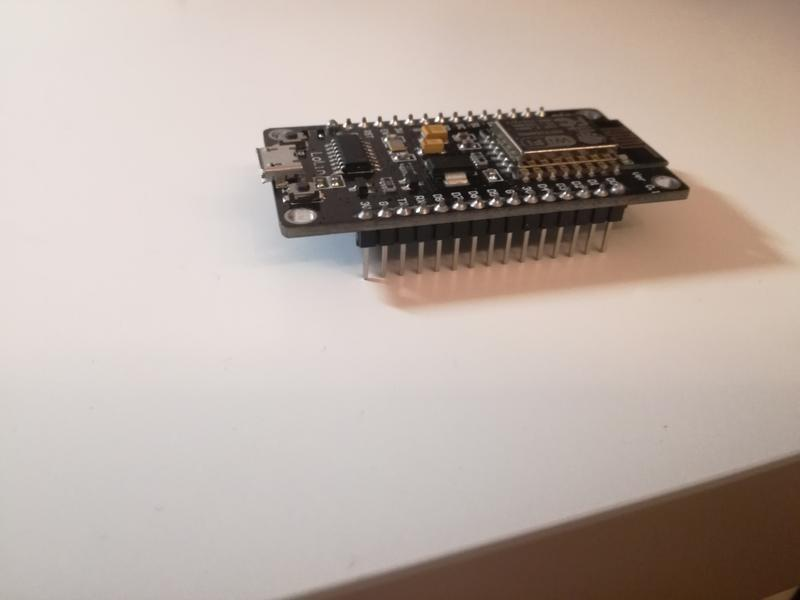ESP8266: (255, 97, 695, 288)
